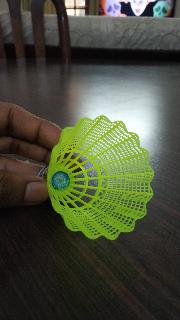shuttlecock: (39, 115, 153, 239)
